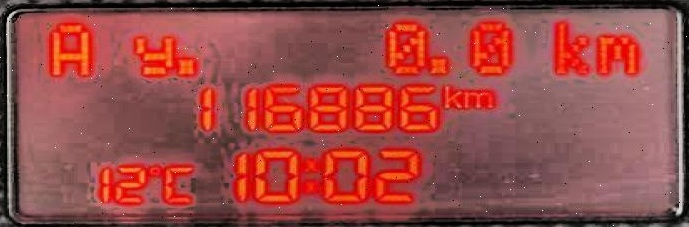-: (174, 54, 195, 76), (428, 54, 449, 74)
0: (249, 144, 301, 204), (463, 16, 515, 75), (320, 145, 370, 205), (378, 16, 428, 75)
1: (193, 83, 218, 133), (227, 149, 249, 204), (236, 83, 259, 132), (92, 163, 110, 204)
2: (371, 144, 423, 205), (112, 161, 145, 205)
6: (259, 80, 304, 134), (395, 80, 440, 134)
8: (305, 80, 350, 133), (351, 80, 394, 134)
X: (43, 19, 92, 78), (545, 14, 590, 76), (590, 29, 642, 75), (127, 32, 176, 78), (160, 160, 194, 206), (460, 86, 493, 109), (301, 154, 317, 196), (440, 80, 460, 109)
